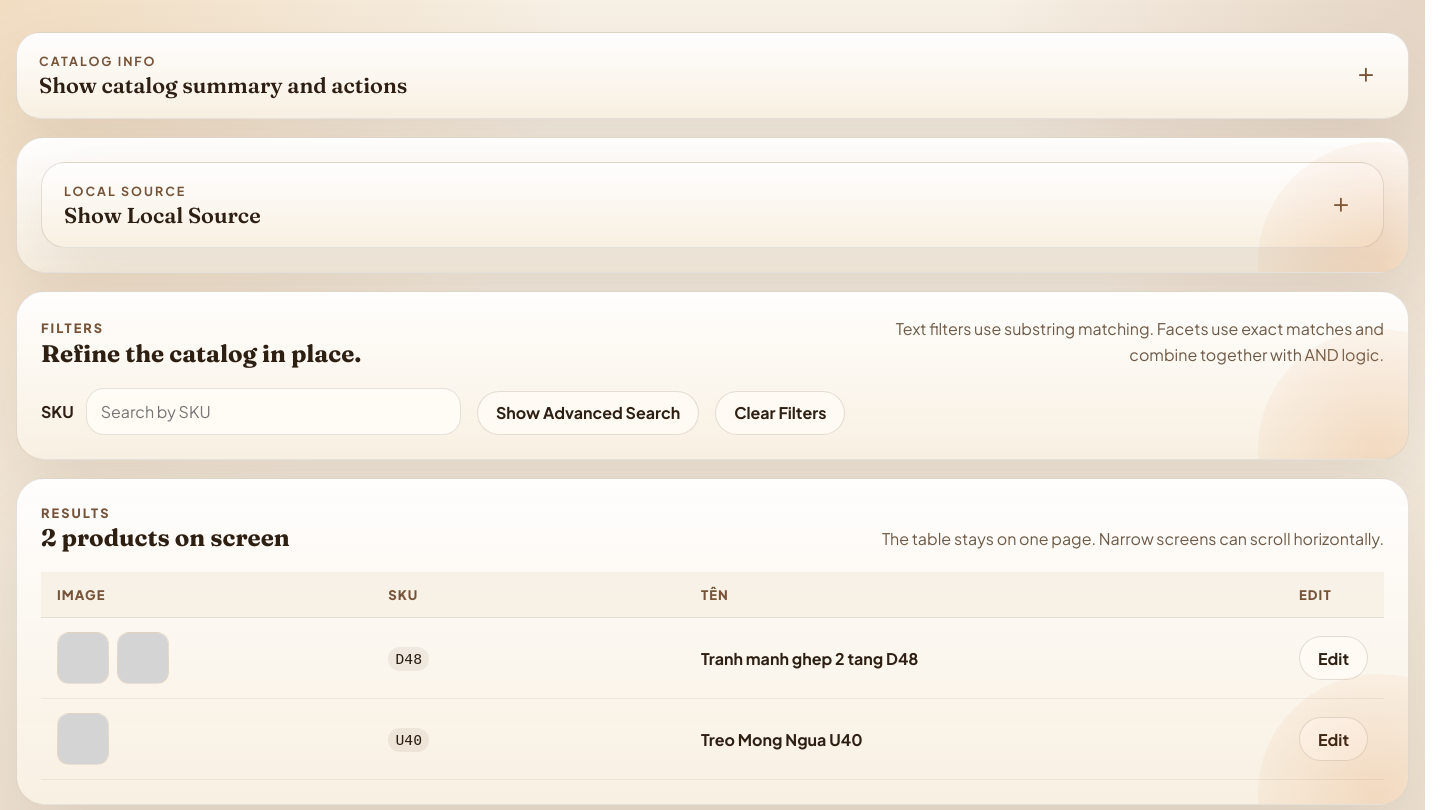
Test: App › renders Clear Filters inside the filter section and keeps advanced-only fields hidden by default
The width and height of the screenshot is (1440, 810).
Expected: the button "Clear Filters" is shown, [715,390,845,434]
Type "NOT-A-REAL-SKU" into the search field with placeholder "Search by SKU".
click(273, 411); type("NOT-A-REAL-SKU")  # box [86,388,461,434]
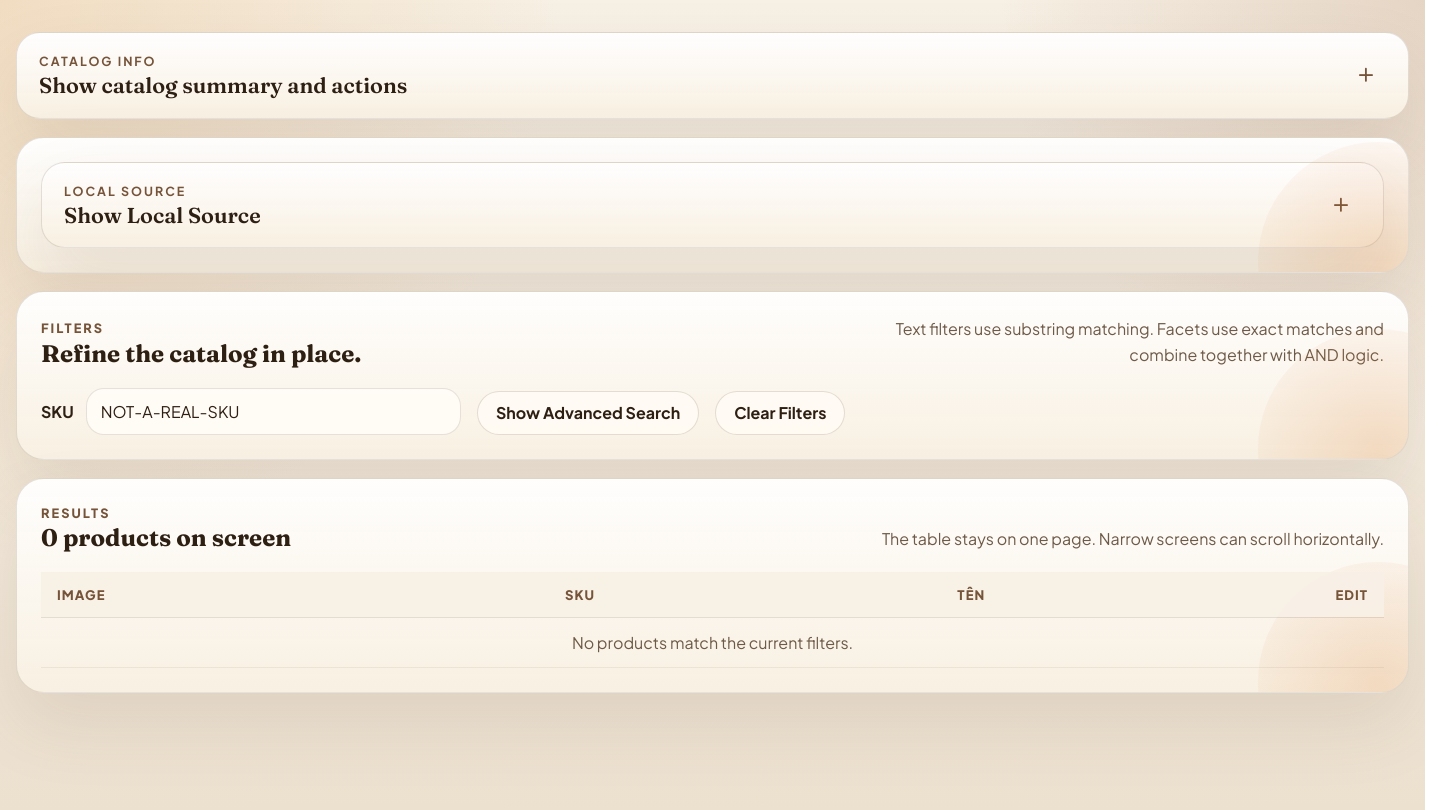
Click the button "Clear Filters".
click(780, 412)  # box [715,390,845,434]
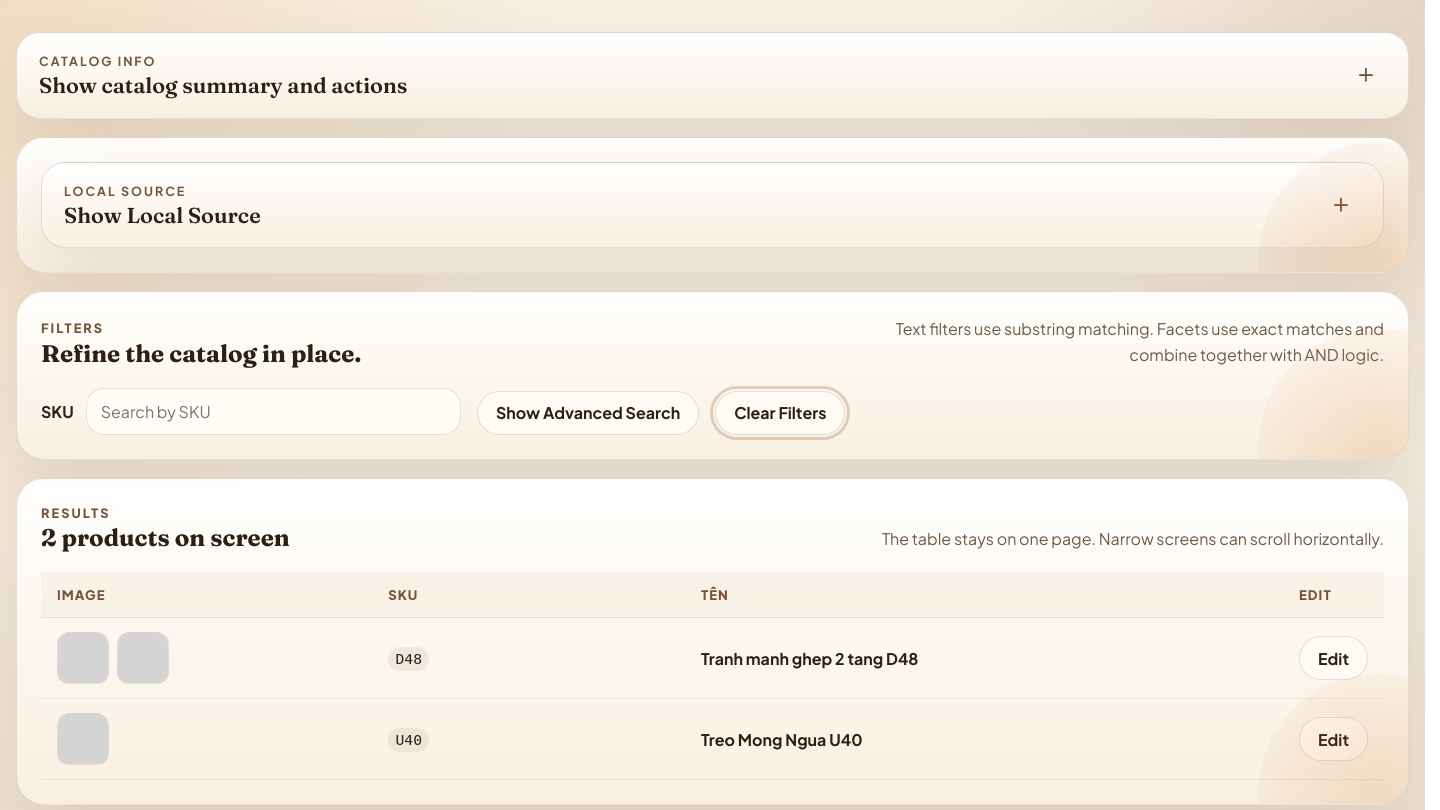
Result: the heading "2 products on screen" is shown at [41,523,290,552]
